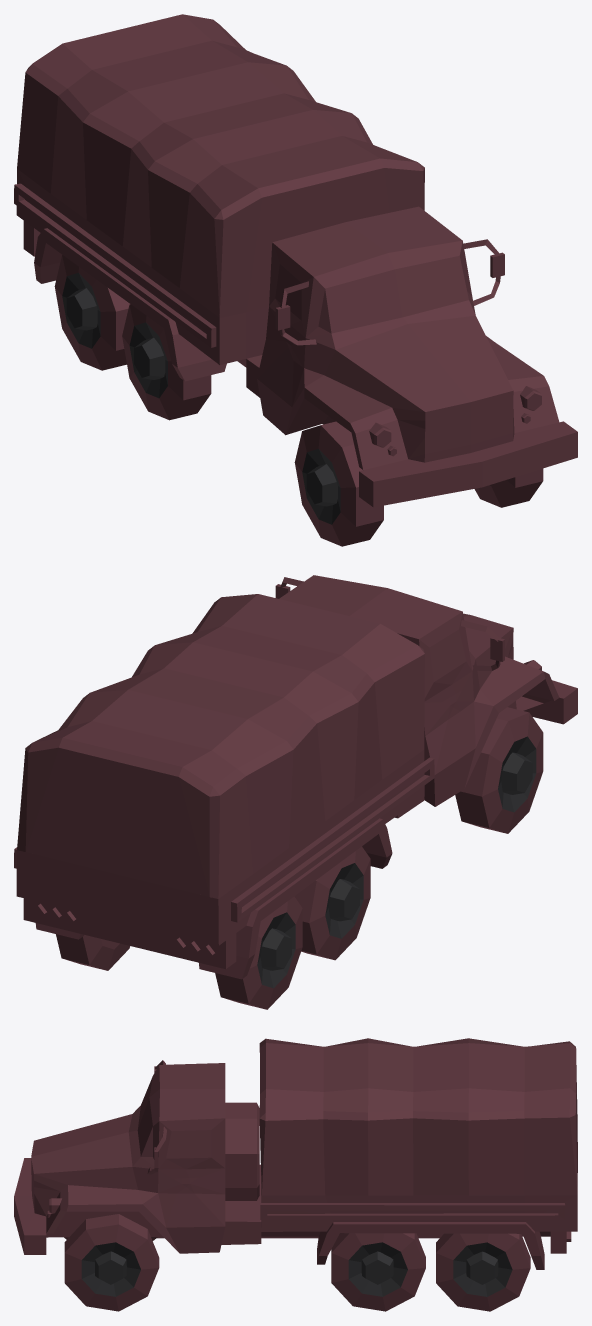
The model's file is military-truck.fbx.
3 renders of one model, top to bottom at view 1: azimuth 30°, elevation 25°; view 2: azimuth 150°, elevation 25°; view 3: azimuth 270°, elevation 25°, orthographic. The views are drawn at different scales.
Parts seen in each view (by area): view 1: military-truck-base, military-truck-wheel_FR, military-truck-wheel_BR2, military-truck-wheel_BR1, military-truck-wheel_FL; view 2: military-truck-base, military-truck-wheel_FR, military-truck-wheel_BR1, military-truck-wheel_BR2, military-truck-wheel_LR2; view 3: military-truck-base, military-truck-wheel_FL, military-truck-wheel_LR2, military-truck-wheel_LR1.
Part boxes in pixels (left/top/right/bottom): military-truck-base: left=14, top=14, right=577, bottom=507; military-truck-wheel_FR: left=294, top=421, right=383, bottom=546; military-truck-wheel_BR2: left=54, top=255, right=130, bottom=370; military-truck-wheel_BR1: left=122, top=304, right=211, bottom=420; military-truck-wheel_FL: left=474, top=468, right=543, bottom=507; military-truck-base: left=14, top=575, right=577, bottom=979; military-truck-wheel_FR: left=455, top=707, right=543, bottom=833; military-truck-wheel_BR1: left=294, top=846, right=370, bottom=960; military-truck-wheel_BR2: left=215, top=896, right=302, bottom=1009; military-truck-wheel_LR2: left=56, top=934, right=130, bottom=970; military-truck-base: left=14, top=1038, right=577, bottom=1269; military-truck-wheel_FL: left=64, top=1214, right=159, bottom=1311; military-truck-wheel_LR2: left=436, top=1233, right=530, bottom=1311; military-truck-wheel_LR1: left=331, top=1233, right=425, bottom=1311.
Size of the model in its own units: 2.83 by 3.25 by 7.88.
